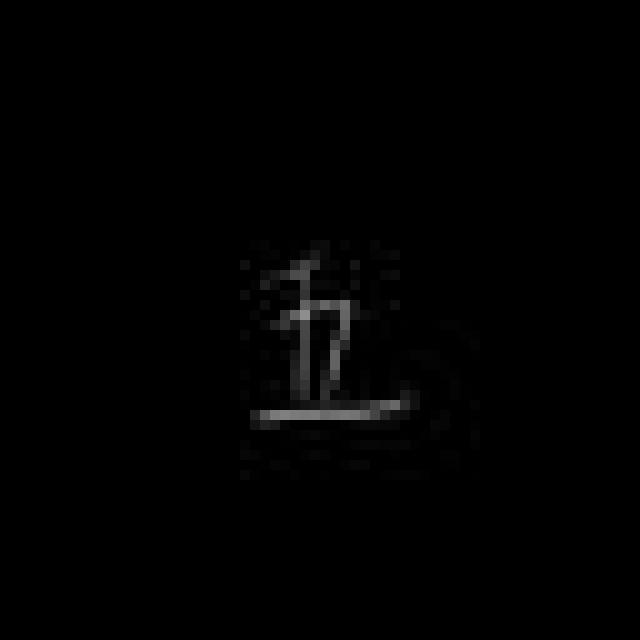5 -five-: (247, 247, 409, 434)
